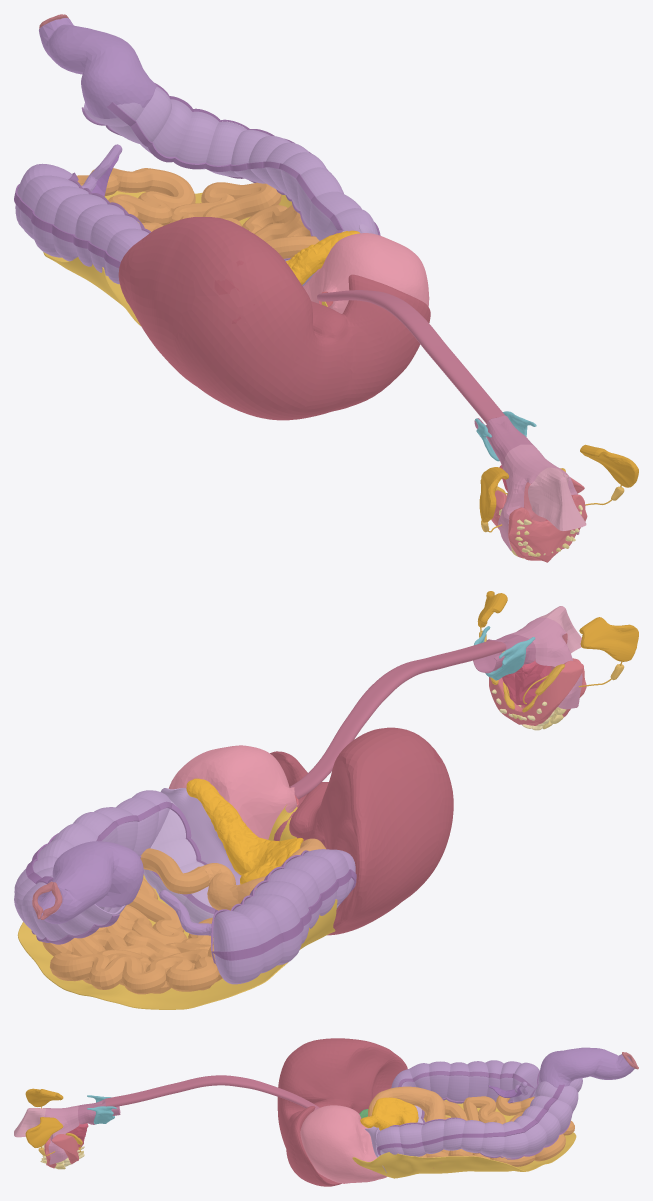
3 renders of one model, top to bottom at view 1: azimuth 30°, elevation 25°; view 2: azimuth 150°, elevation 25°; view 3: azimuth 270°, elevation 25°, orthographic. The views are drawn at different scales.
Parts seen in each view (by area): view 1: 肝, 降结肠, 空肠, 升结肠, 乙状结肠, 胃, 食管, 牙龈, 独立带, 口咽, 鼻咽, 大网膜 (+5 smaller); view 2: 肝, 空肠, 升结肠, 降结肠, 胃, 乙状结肠, 大网膜, 食管, 胰, 横结肠, 牙龈, 结肠系膜 (+12 smaller); view 3: 肝, 降结肠, 胃, 升结肠, 大网膜, 空肠, 乙状结肠, 食管, 十二指肠, 胰, 系膜带, 口咽 (+8 smaller).
Part boxes in pixels (box(x1,y1,x2,y2)): 肝: box(118, 217, 430, 420); 降结肠: box(84, 86, 378, 240); 空肠: box(77, 168, 319, 302); 升结肠: box(15, 163, 148, 284); 乙状结肠: box(39, 18, 157, 118); 胃: box(303, 233, 429, 313); 食管: box(317, 290, 504, 423); 牙龈: box(491, 477, 587, 562); 独立带: box(68, 102, 343, 234); 口咽: box(498, 444, 579, 550); 鼻咽: box(528, 467, 586, 531); 大网膜: box(43, 191, 292, 325); 肝: box(270, 727, 453, 935); 空肠: box(42, 848, 222, 994); 升结肠: box(213, 849, 355, 984); 降结肠: box(14, 790, 170, 940); 胃: box(168, 745, 297, 839); 乙状结肠: box(37, 841, 143, 923); 大网膜: box(17, 874, 337, 1009); 食管: box(290, 640, 506, 799); 胰: box(186, 778, 303, 884); 横结肠: box(143, 800, 340, 923); 牙龈: box(489, 658, 586, 725); 结肠系膜: box(160, 788, 241, 885); 肝: box(277, 1038, 407, 1186); 降结肠: box(375, 1074, 582, 1158); 胃: box(300, 1105, 387, 1183); 升结肠: box(391, 1060, 539, 1102); 大网膜: box(352, 1099, 576, 1178); 空肠: box(418, 1095, 574, 1168); 乙状结肠: box(539, 1047, 634, 1087); 食管: box(105, 1075, 319, 1110); 十二指肠: box(368, 1086, 445, 1121); 胰: box(360, 1097, 418, 1130); 系膜带: box(377, 1084, 564, 1155); 口咽: box(44, 1105, 79, 1164).
Size of the model in its own units: 0.2897 by 0.2164 by 1.
